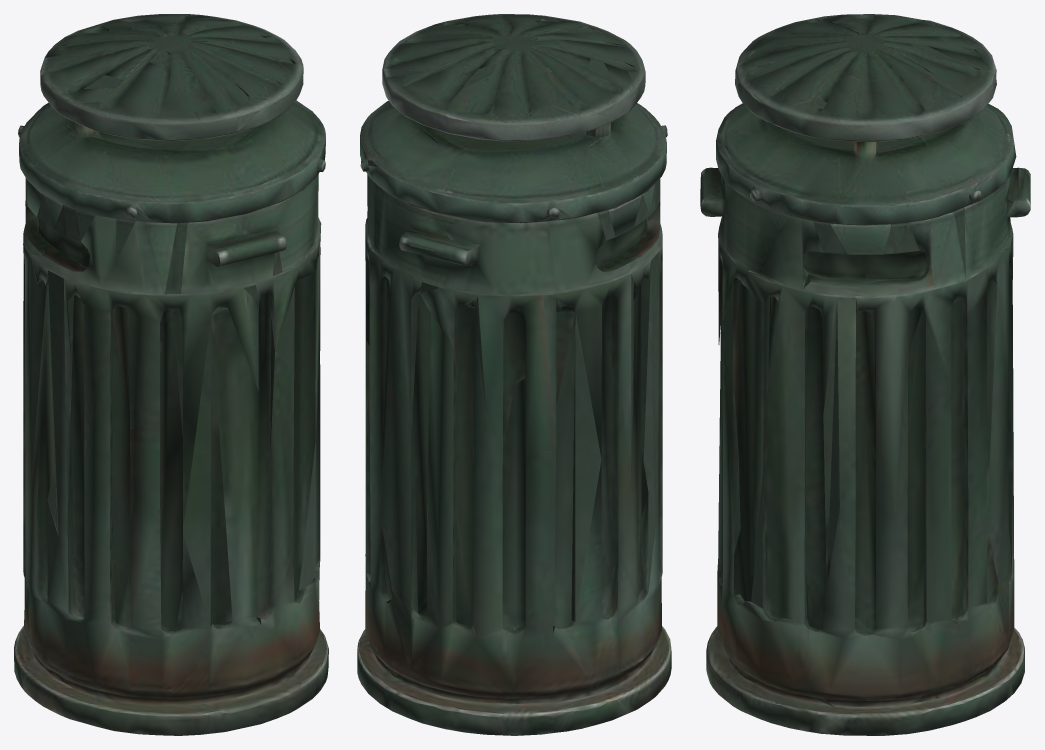
The model's file is prop_trash_bin_01.glb.
The picture shows the model from 3 angles, left to right: view 1: azimuth 30°, elevation 25°; view 2: azimuth 150°, elevation 25°; view 3: azimuth 270°, elevation 25°; orthographic projection.
Visible parts, largest first — view 1: output_unwrapped; view 2: output_unwrapped; view 3: output_unwrapped.
Boxes of the visible parts, x1=… form: output_unwrapped: x1=14, y1=14, x2=328, y2=735; output_unwrapped: x1=357, y1=14, x2=671, y2=735; output_unwrapped: x1=700, y1=14, x2=1030, y2=735.
Bounding box in the file's own units: 0.8586 × 1.9 × 0.9026.
1 material, 1 textured.
